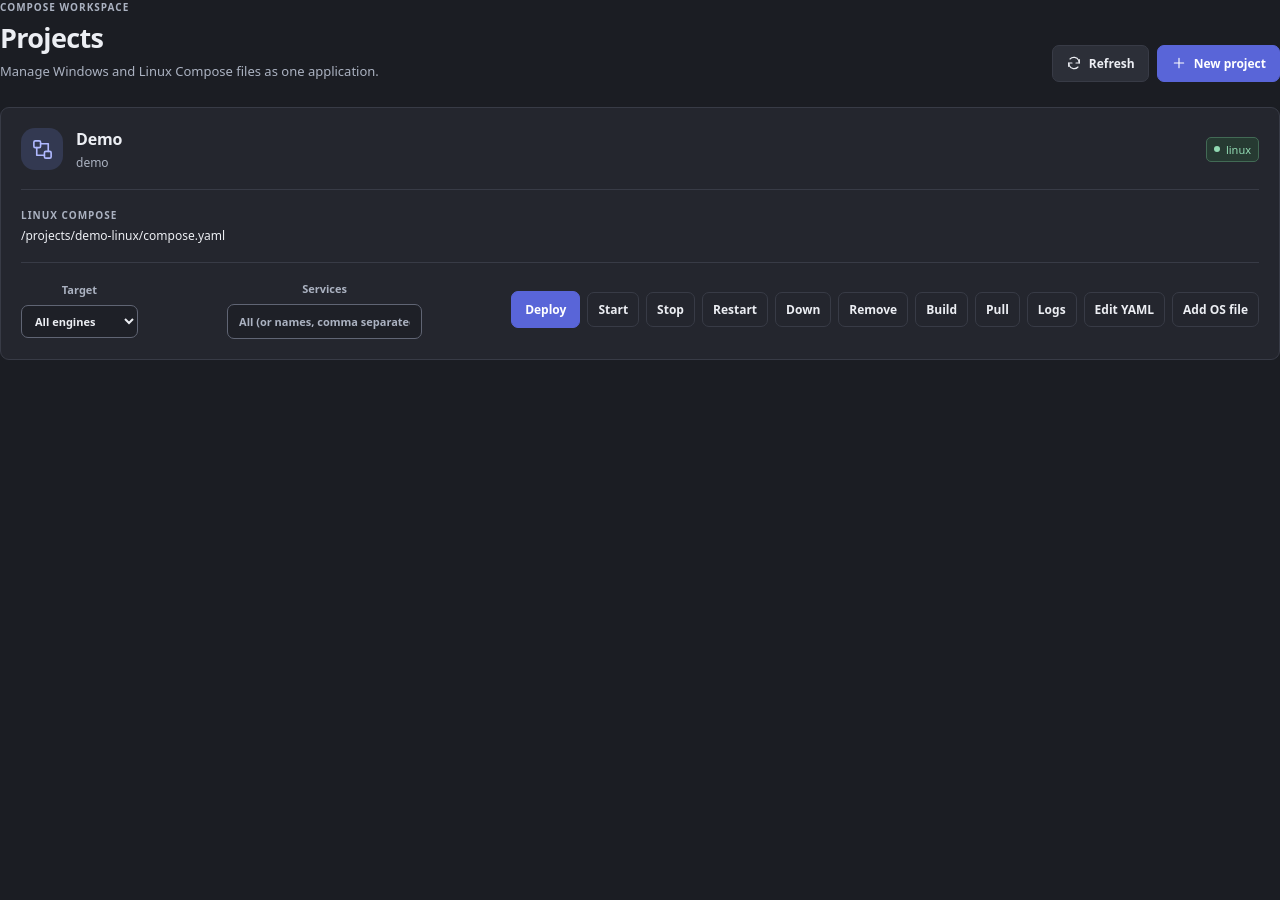
shows project-scoped build output while the selected service is building
Check: the heading "Demo" is shown, box [76, 128, 122, 150]
Type "web" into the field named "Services for Demo" at (325,321), box [227, 304, 422, 339]
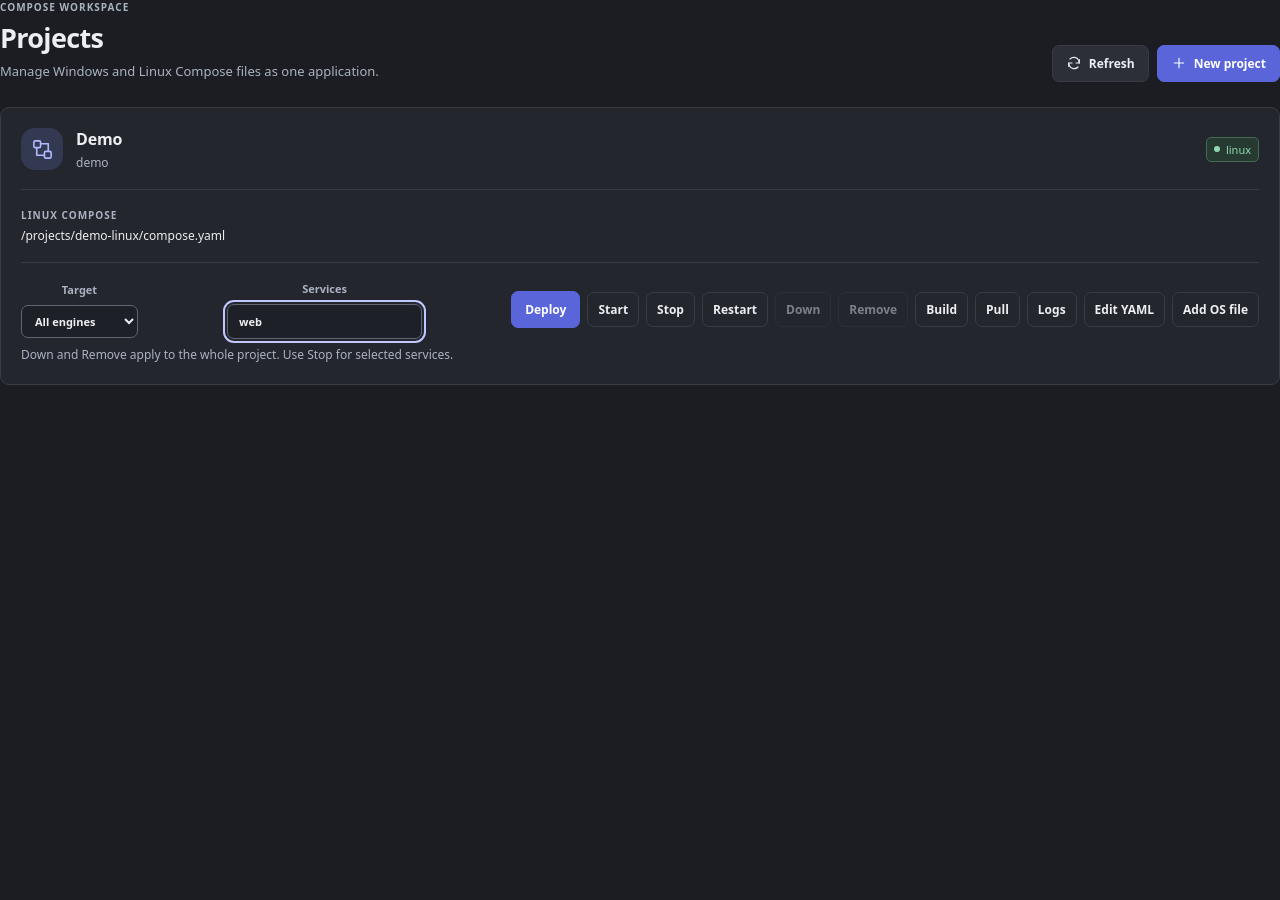
Click the button "Build" at (942,310), box [915, 292, 968, 327]
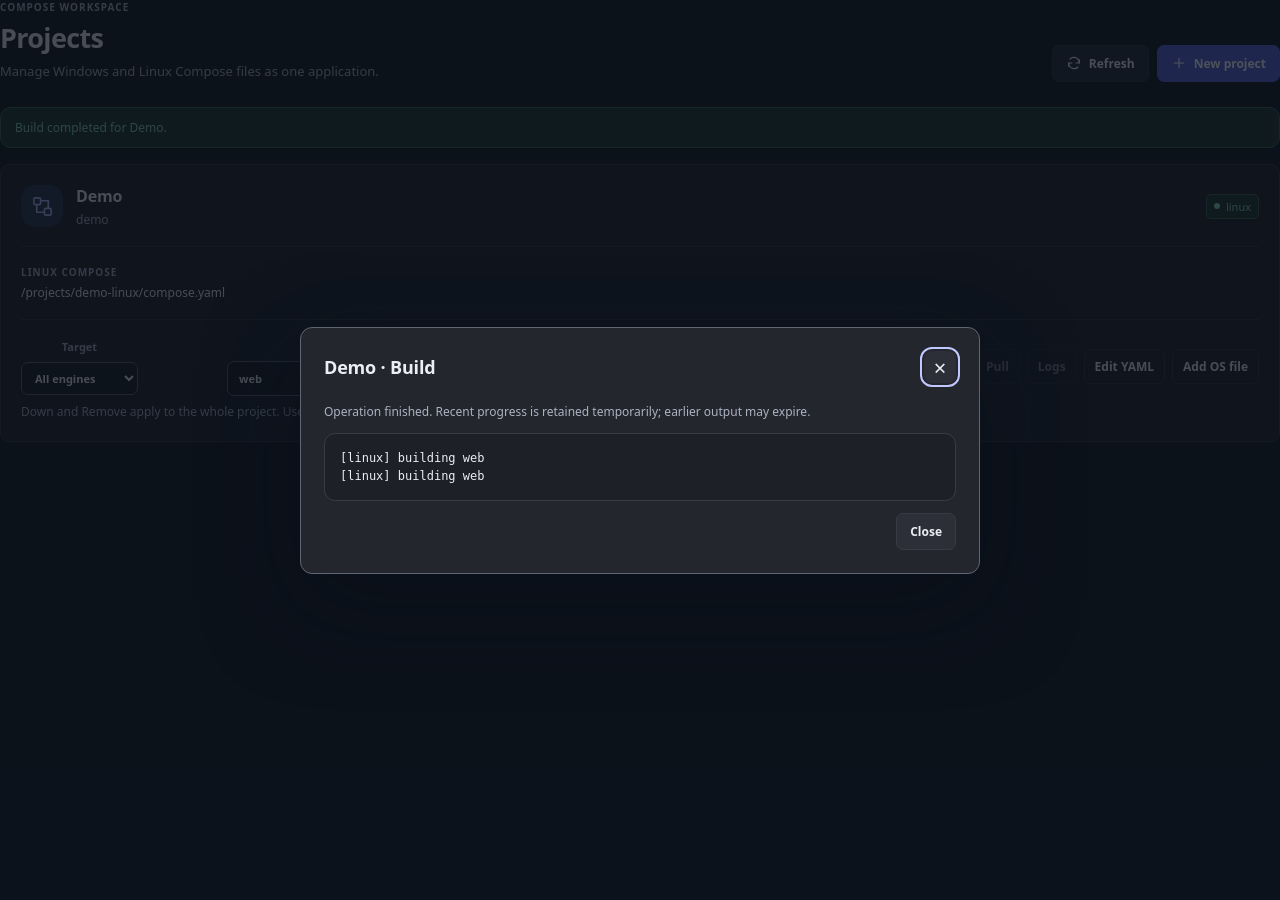
Check: the text "[linux] building web [linux] building web" is shown, box [324, 432, 956, 500]
Check: the text "Operation finished" is shown, box [324, 402, 432, 420]
